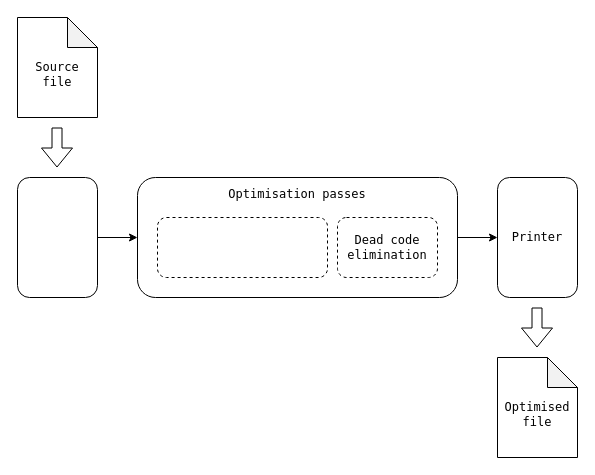
Image size: 595x475. Some labels were removed from this diagram. Each missing label, with the box of its shape:
Constant folding: (156, 216, 328, 278)
Parser: (16, 176, 98, 298)
